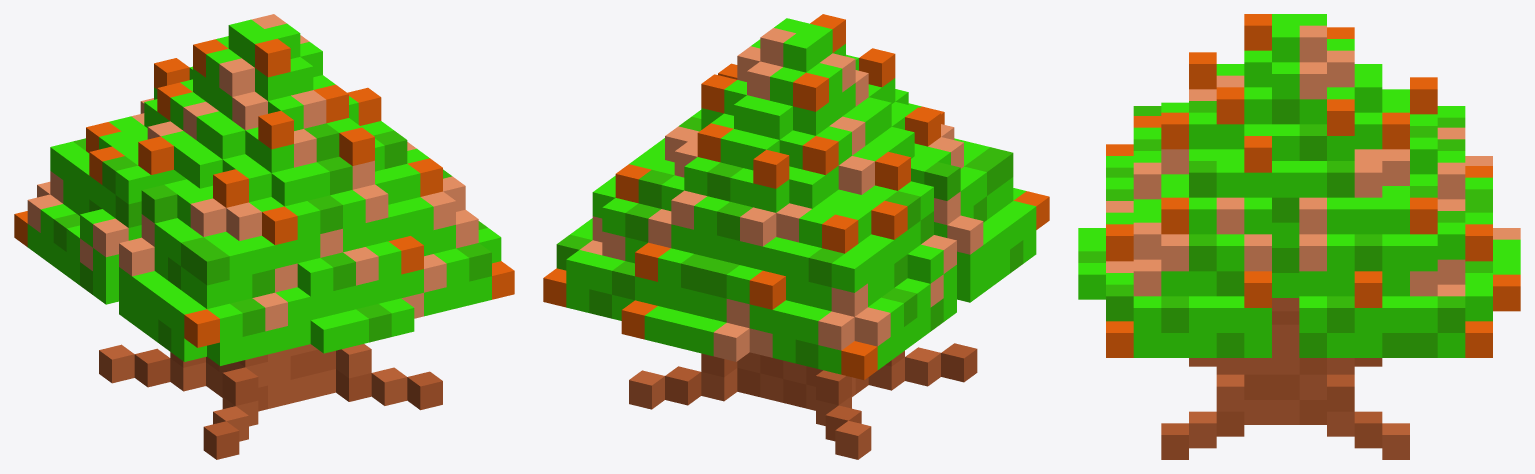
Rendered from Gireth_Sharik_Alvarado_Rubio_fase_3.obj.
3 renders of one model, left to right at view 1: azimuth 30°, elevation 25°; view 2: azimuth 150°, elevation 25°; view 3: azimuth 270°, elevation 25°, orthographic. The views are drawn at different scales.
Parts seen in each view (by area): view 1: Gireth_Sharik_Alvarado_Rubio_fase_3; view 2: Gireth_Sharik_Alvarado_Rubio_fase_3; view 3: Gireth_Sharik_Alvarado_Rubio_fase_3.
Boxes of the visible parts, box(x1,y1,x2,y2) form: Gireth_Sharik_Alvarado_Rubio_fase_3: box(14, 14, 514, 459); Gireth_Sharik_Alvarado_Rubio_fase_3: box(543, 14, 1049, 459); Gireth_Sharik_Alvarado_Rubio_fase_3: box(1078, 14, 1520, 459).
Size of the model in its own units: 14 by 15 by 16.
Materials: 1 (1 with a texture image).
